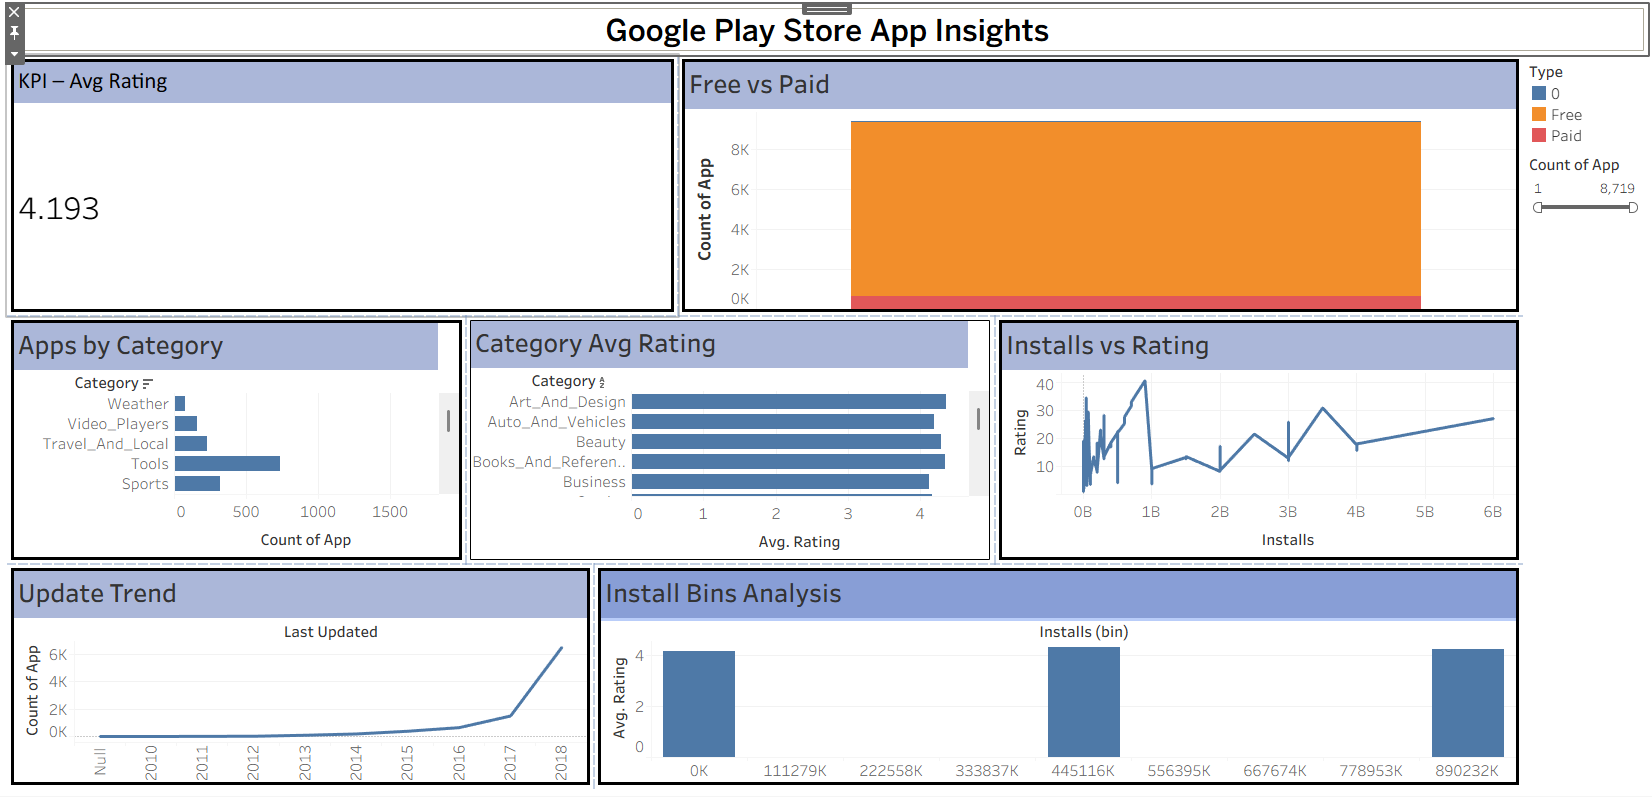

What the dashboard file says about the page in this screenshot:
{"tool":"tableau","page":{"name":"Dashboard 1","canvas":[1000,1000],"units":"permille","ordinal":0},"visuals":[{"type":"title","box":[4.8,10,990.3,63.7]},{"type":"worksheet","title":"KPI – Avg Rating","mark":"Automatic","box":[4.8,73.7,404.9,325.6]},{"type":"worksheet","title":"Free vs Paid","mark":"Automatic","rows":["App"],"box":[409.8,73.7,510,325.6]},{"type":"legend","title":"Free vs Paid","param":"[federated.00304hk0vi4e0h16hb0su00bg7pp].[none:Type:nk]","box":[921,76.2,73,116.1]},{"type":"worksheet","title":"Apps by Category","mark":"Automatic","rows":["Category"],"cols":["App"],"box":[4.8,399.2,277.2,309.9]},{"type":"worksheet","title":"Category Avg Rating","mark":"Automatic","rows":["Category"],"cols":["Rating"],"box":[282,399.2,318.8,309.9]},{"type":"worksheet","title":"Installs vs Rating","mark":"Line","rows":["Rating"],"cols":["Installs"],"box":[600.8,399.2,318.9,309.9]},{"type":"worksheet","title":"Update Trend","mark":"Automatic","rows":["App"],"cols":["Last Updated"],"box":[4.8,709.1,354.2,280.9]},{"type":"worksheet","title":"Install Bins Analysis","mark":"Automatic","rows":["Rating"],"cols":["Installs (bin)"],"box":[359.1,709.1,560.7,280.9]}]}

Visuals, with their boxes on the dashboard's canvas, which has no fixed pixel size, in thousandths of its width and height (x1, y1, x2, y2). These are canvas units, not pixel positions in the 1652x797 screenshot, which may show the page scaled, cropped or inside an application window:
title: l=5, t=10, r=995, b=74
"KPI – Avg Rating" worksheet: l=5, t=74, r=410, b=399
"Free vs Paid" worksheet: l=410, t=74, r=920, b=399
"Free vs Paid" legend: l=921, t=76, r=994, b=192
"Apps by Category" worksheet: l=5, t=399, r=282, b=709
"Category Avg Rating" worksheet: l=282, t=399, r=601, b=709
"Installs vs Rating" worksheet (Line marks): l=601, t=399, r=920, b=709
"Update Trend" worksheet: l=5, t=709, r=359, b=990
"Install Bins Analysis" worksheet: l=359, t=709, r=920, b=990
